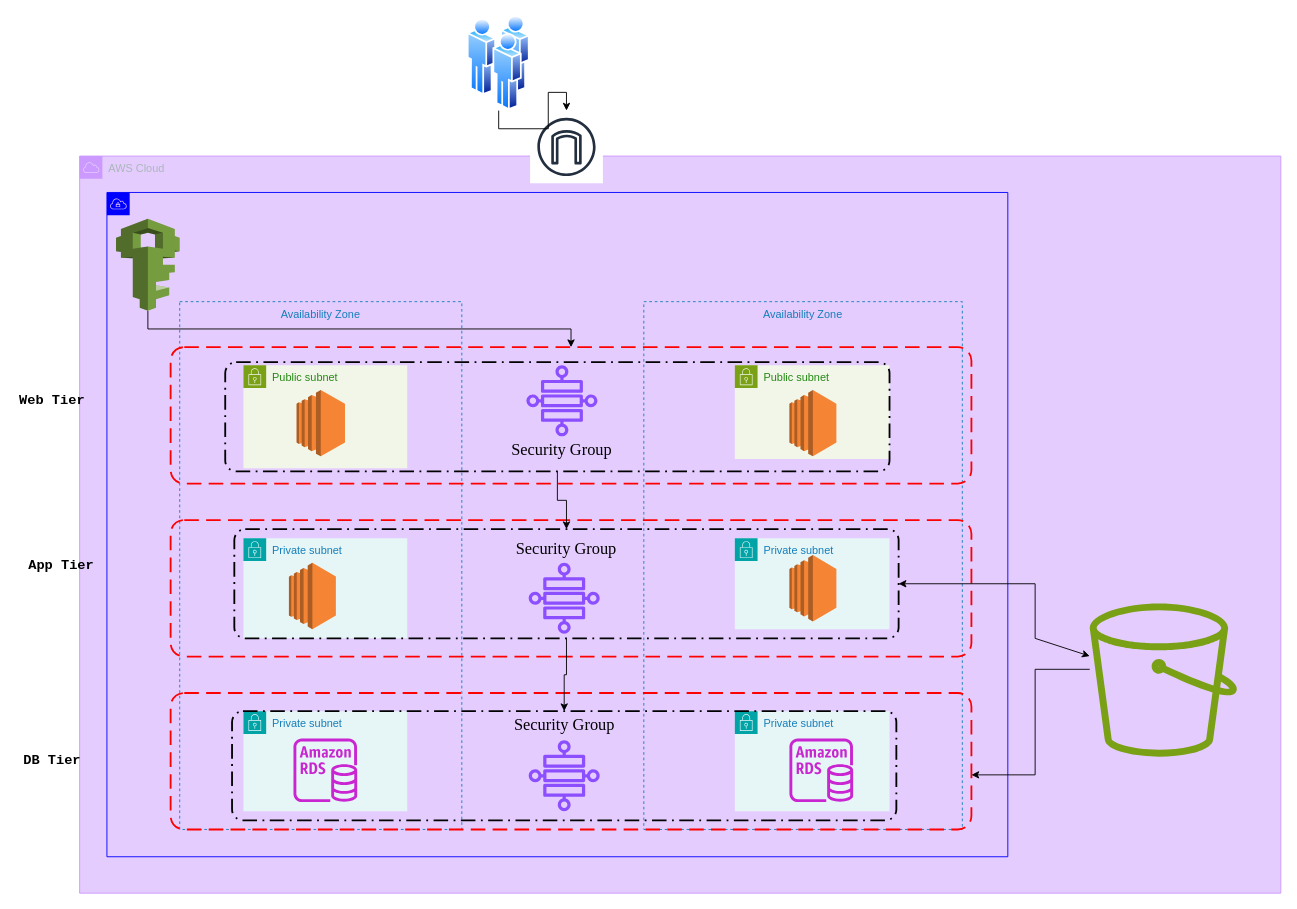
Some shapes in this 1297 by 909 pixel diagram are drawn without their labels. The shapes that lost their labels are listed below. From the top down, each one's box as (x1, y1, x2, y2) in pixels, then its label:
(529, 110, 603, 183): Internet gateway
(106, 192, 1008, 857): VPC
(1089, 603, 1237, 756): S3
